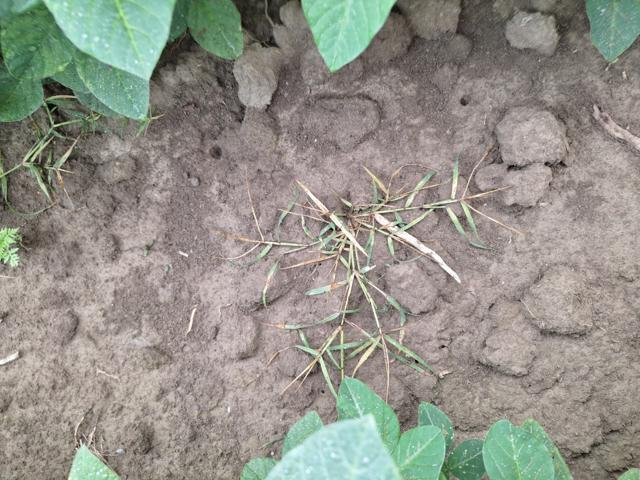bad weed: (224, 146, 502, 412), (0, 89, 176, 210), (0, 214, 29, 278)
